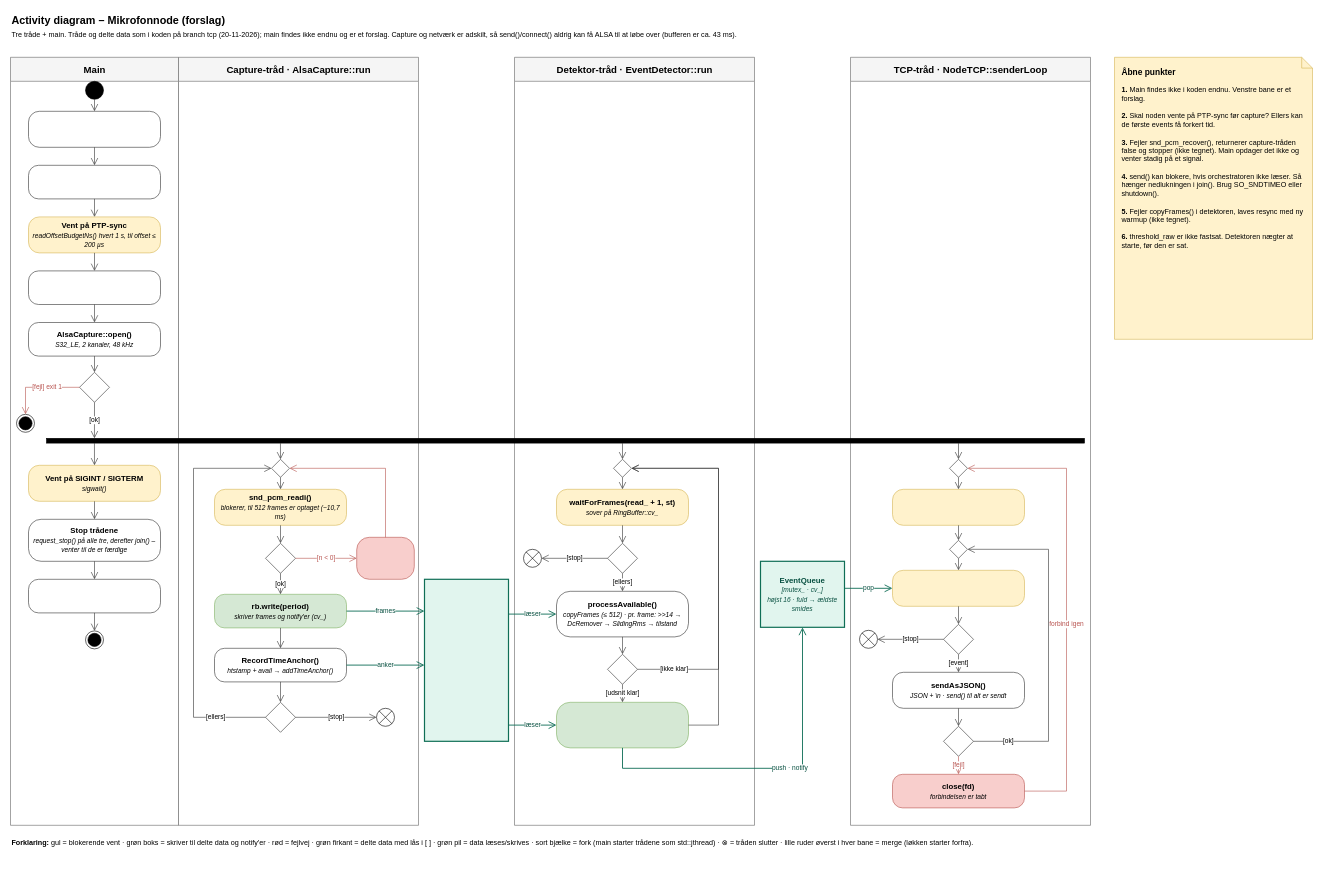
The diagram is 1323 pixels wide and 874 high, and some of its shapes have lost their labels. The shapes that lost their labels are listed below. From the top down, each one's centre as x and y in pixels, then its label:
At pixel 94 129: "Læs konfiguration node_id, orchestrator IP:port, ALSA-device, tærskler".
At pixel 94 182: "PtpService::start() ptp4l + phc2sys via systemd".
At pixel 94 287: "Opret RingBuffer og EventQueue ca. 2,7 s frames · højst 16 events".
At pixel 958 507: "connectToOrchestrator() ny socket + connect(), prøv igen hvert 1 s".
At pixel 385 558: "Overrun snd_pcm_recover() + resetTimeAnchors()".
At pixel 94 596: "PtpService::stop()".
At pixel 958 588: "queue.pop(st) sover på EventQueue::cv_".
At pixel 466 660: "RingBuffer [mutex_ · cv_] frames + tidsankre".
At pixel 622 725: "extractAndSend() kopiér [T−15, T+35 ms), timestampNs(), push · holdoff 200 ms".
